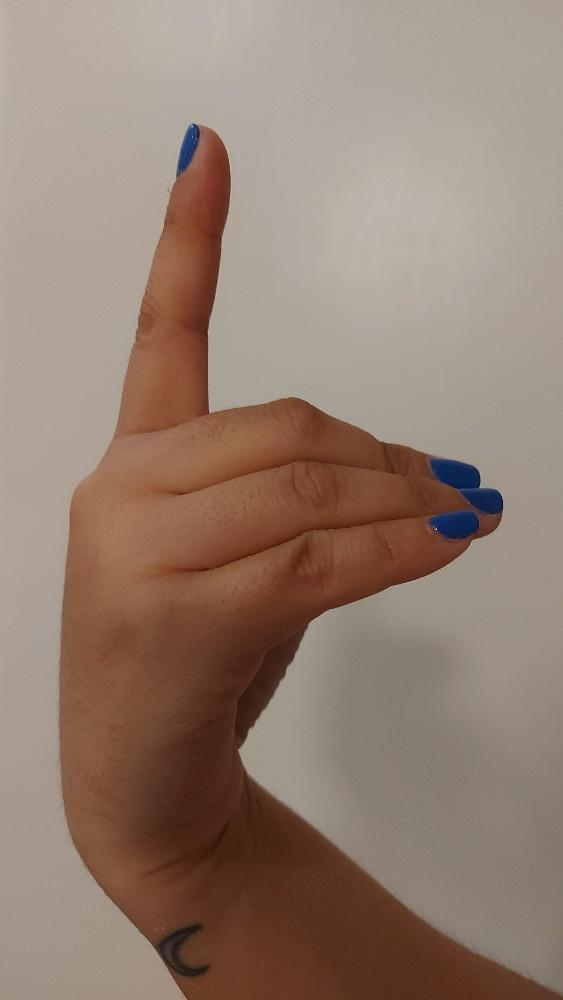d: (54, 117, 504, 840)
